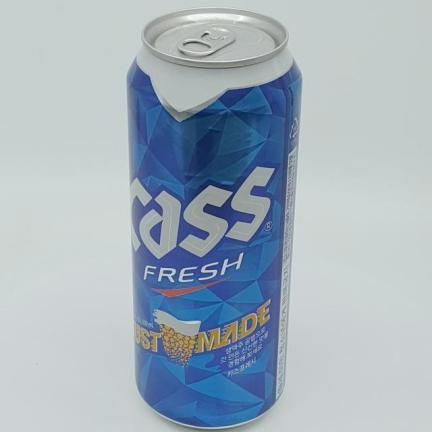can: (128, 8, 302, 428)
